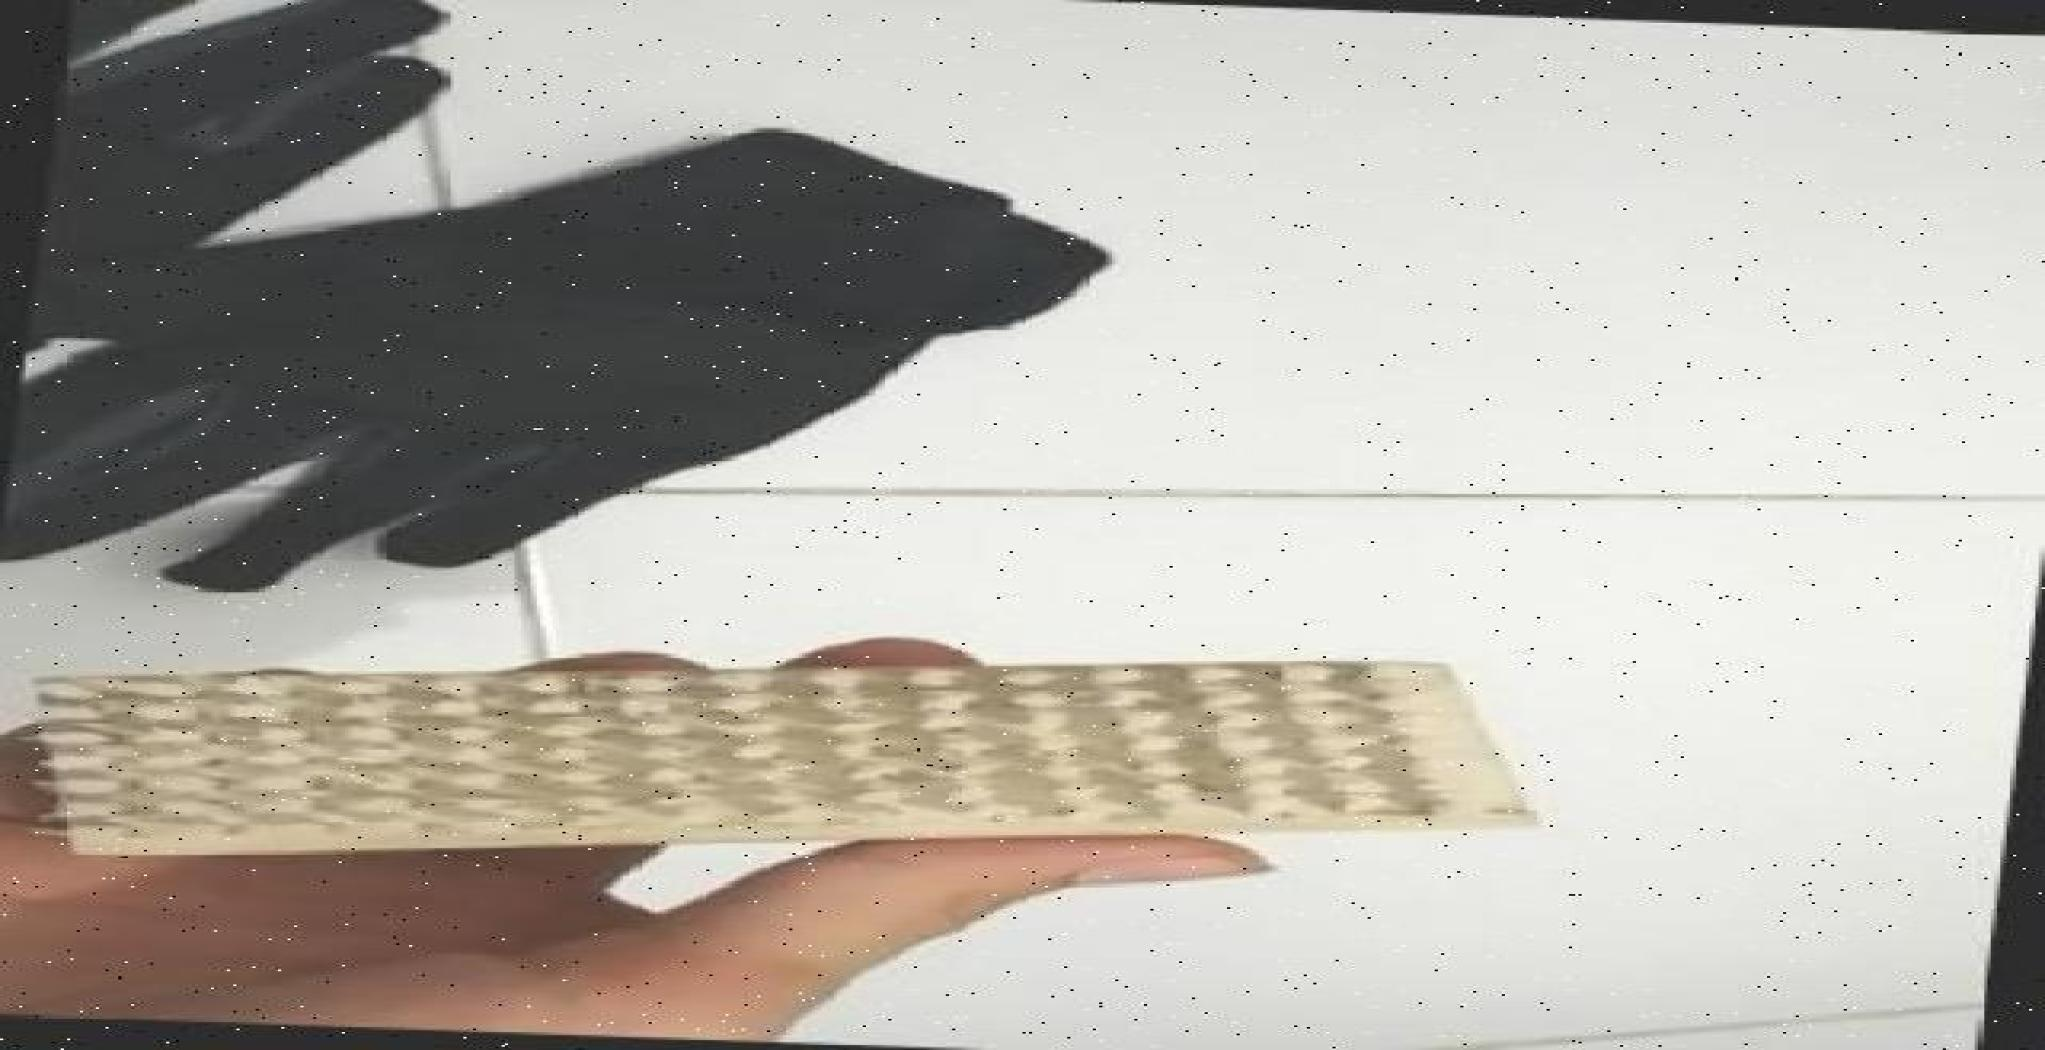not-gloved: (4, 640, 1303, 1050)
